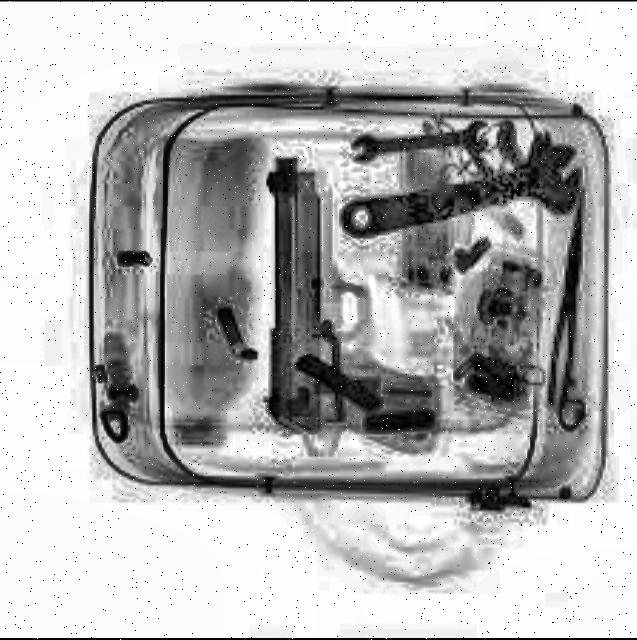Gun: (256, 148, 377, 431)
Wrench: (338, 130, 576, 236), (347, 115, 486, 162)
